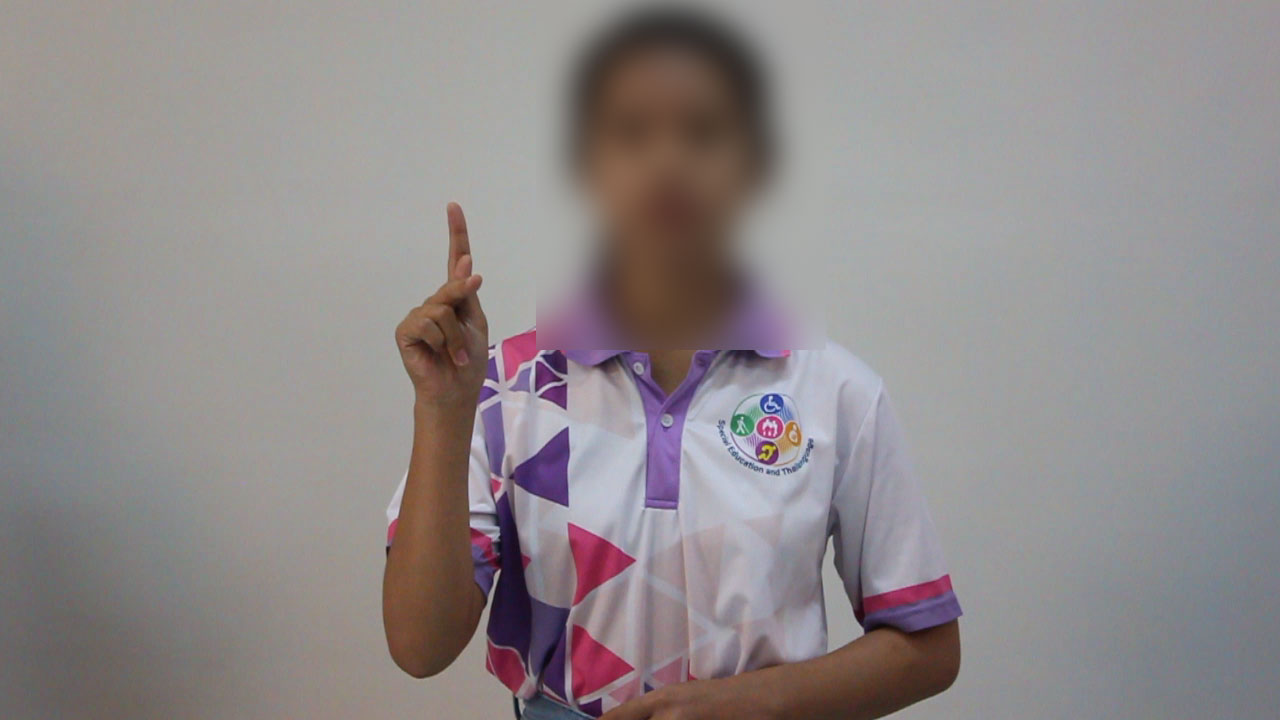ko: (377, 190, 518, 416)
